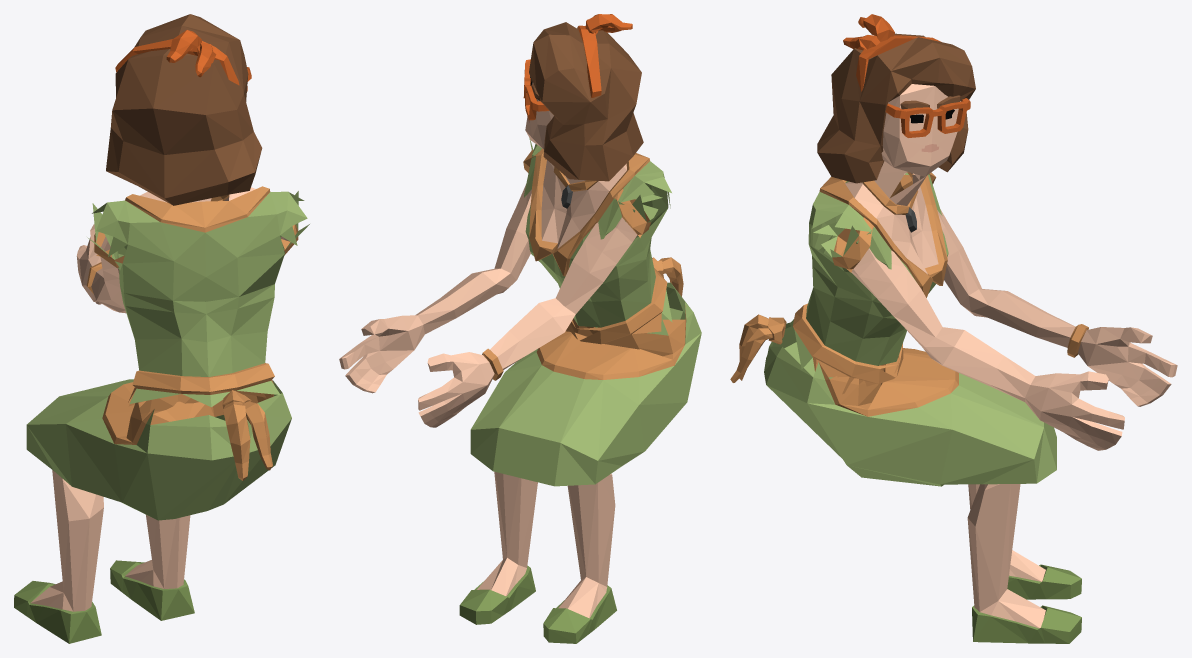
The model's file is Ward_bass.obj.
3 views of the same model, side by side, from view 1: azimuth 30°, elevation 25°; view 2: azimuth 150°, elevation 25°; view 3: azimuth 270°, elevation 25° (orthographic). The views are drawn at different scales.
Parts seen in each view (by area): view 1: Ward_bass; view 2: Ward_bass; view 3: Ward_bass.
Boxes of the visible parts, x1,y1,x2,y2 form: Ward_bass: (14, 14, 309, 643); Ward_bass: (339, 14, 701, 643); Ward_bass: (730, 14, 1177, 643).
Size of the model in its own units: 0.6439 by 1.51 by 1.02.
Materials: 1 (1 with a texture image).
